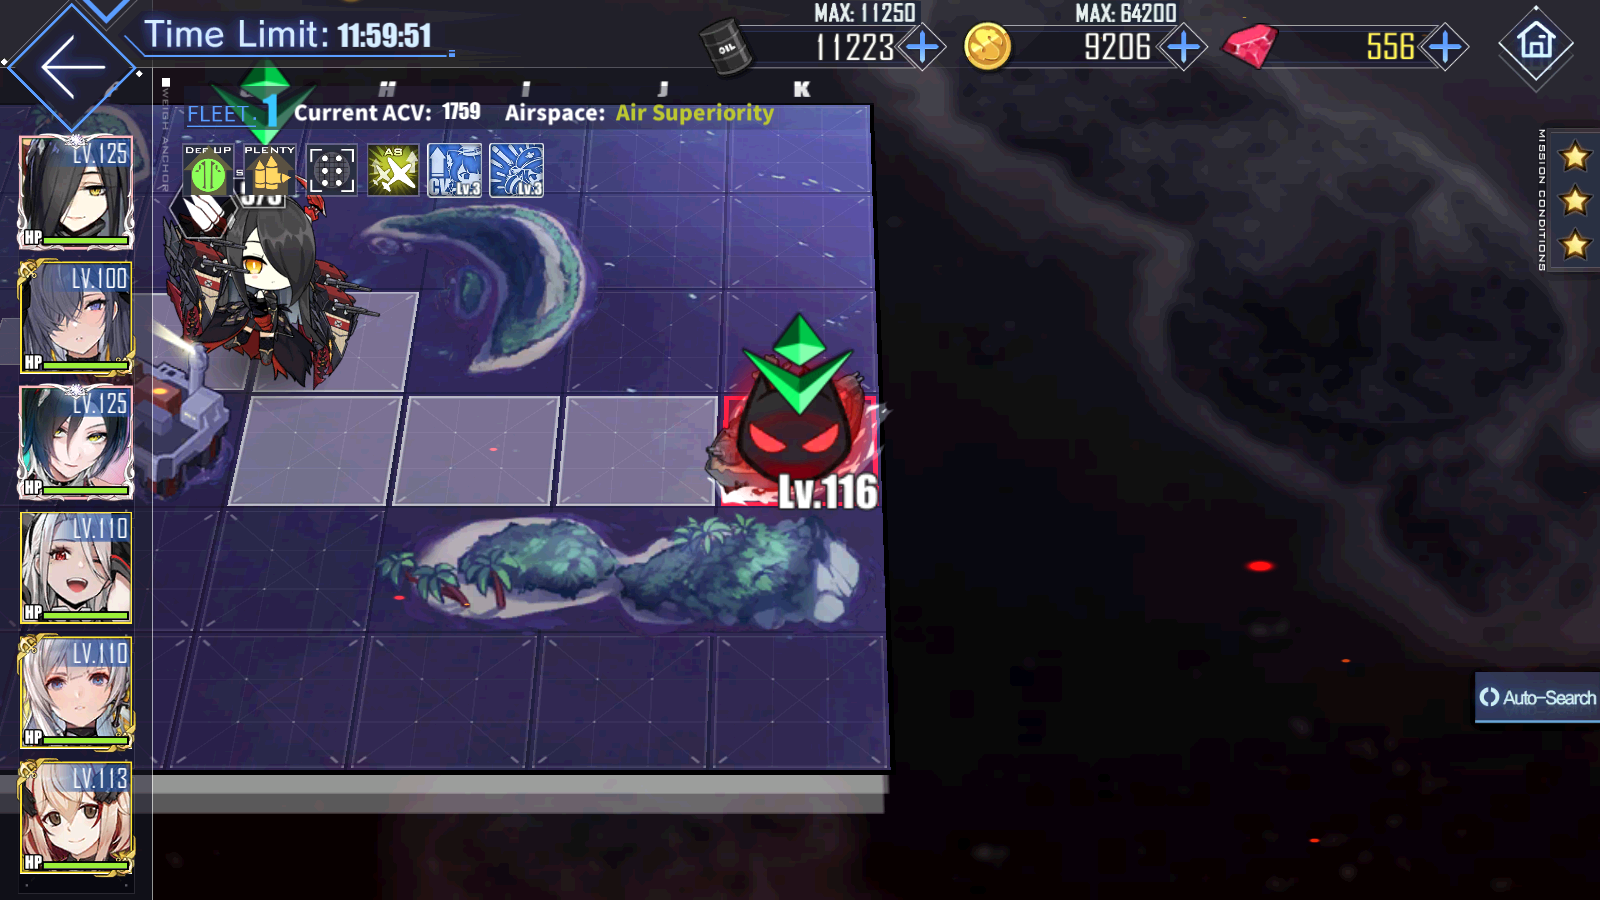ally: (163, 170, 358, 390)
boss: (700, 370, 880, 507)
